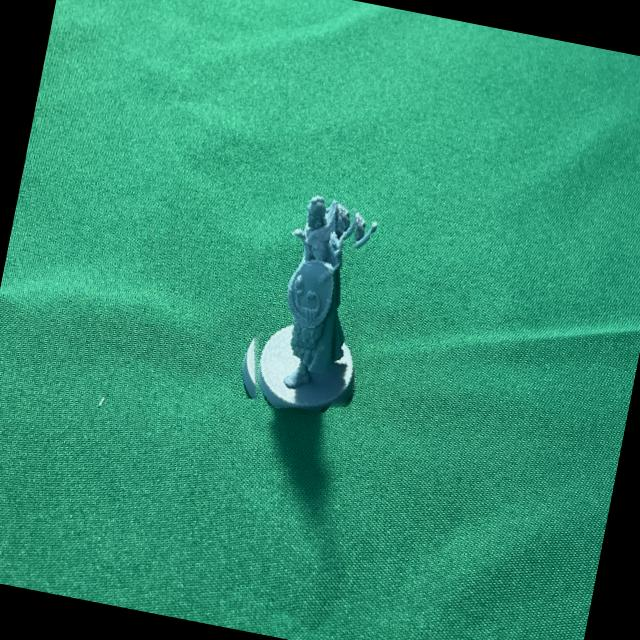isis_follower: (222, 170, 390, 422)
